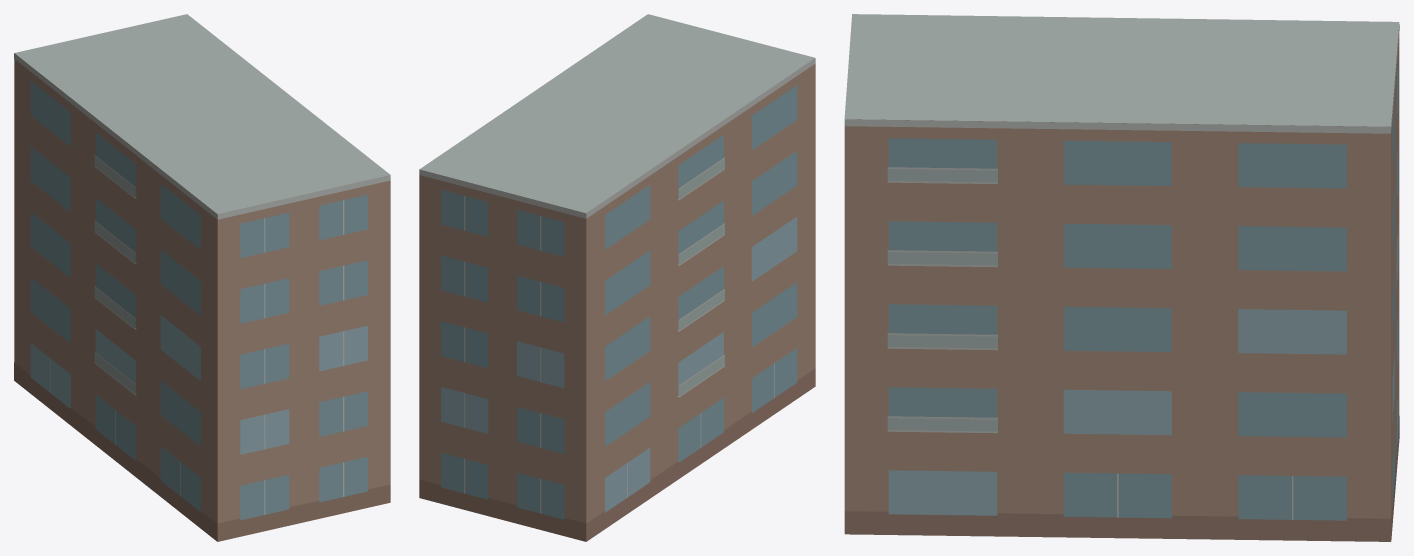
Rendered from survey-upis-32764183.glb.
3 renders of one model, left to right at view 1: azimuth 30°, elevation 25°; view 2: azimuth 150°, elevation 25°; view 3: azimuth 270°, elevation 25°, orthographic. The views are drawn at different scales.
Parts seen in each view (by area): view 1: survey-upis-32764183.tmp; view 2: survey-upis-32764183.tmp; view 3: survey-upis-32764183.tmp.
Part boxes in pixels (left/top/right/bottom): survey-upis-32764183.tmp: left=14, top=14, right=390, bottom=541; survey-upis-32764183.tmp: left=419, top=14, right=815, bottom=541; survey-upis-32764183.tmp: left=844, top=14, right=1399, bottom=541.
Bounding box in the file's own units: 8.46 × 14.5 × 17.58.
